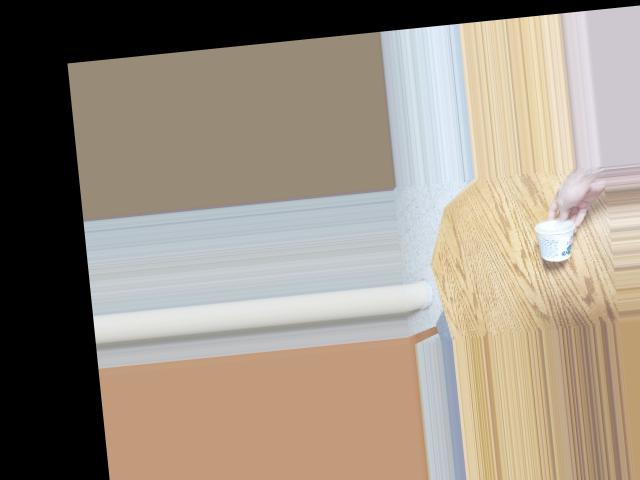cotage: (529, 217, 578, 258)
